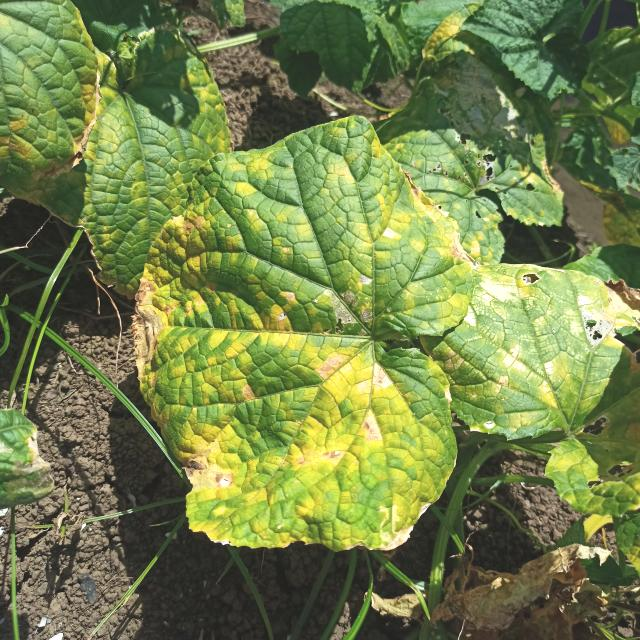disease_cucumber: (134, 115, 472, 535), (448, 261, 615, 445)
